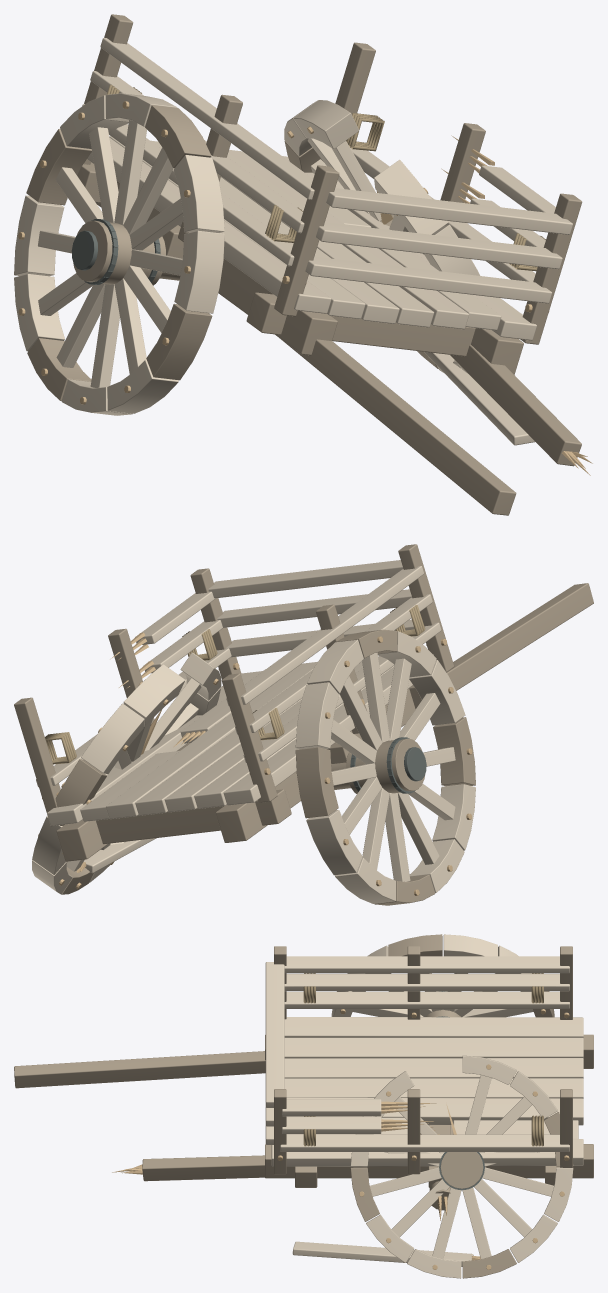
The model's file is HanBrokenCart.fbx.
3 views of the same model, one above another, from view 1: azimuth 30°, elevation 25°; view 2: azimuth 150°, elevation 25°; view 3: azimuth 270°, elevation 25° (orthographic). The views are drawn at different scales.
Visible parts, largest first — view 1: HanBrokenCart; view 2: HanBrokenCart; view 3: HanBrokenCart.
Boxes of the visible parts, x1,y1,x2,y2 form: HanBrokenCart: (14, 14, 592, 515); HanBrokenCart: (14, 544, 593, 905); HanBrokenCart: (14, 934, 593, 1278).
Bounding box in the file's own units: 195 × 160 × 338.
